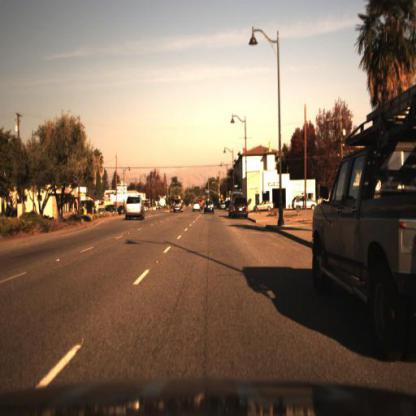car: (311, 82, 416, 356), (119, 191, 149, 229), (232, 191, 253, 223), (292, 193, 318, 213), (254, 194, 275, 217), (168, 193, 186, 218), (291, 194, 319, 210), (203, 197, 220, 220), (255, 198, 276, 216), (191, 199, 204, 219)
